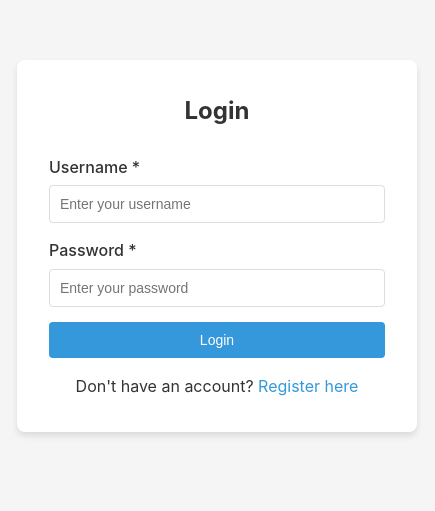
Scenario: Login Component › displays validation errors for empty fields
This screenshot has width=435, height=511.
Click the button "Login": (217, 340) [49, 322, 385, 358]
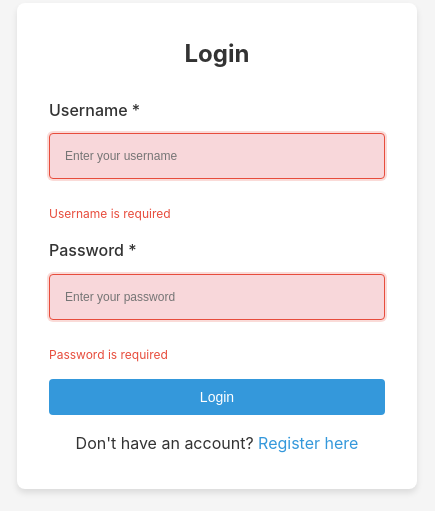
Result: the text "Username is required" is shown at [49, 206, 171, 221]
Result: the text "Password is required" is shown at [49, 347, 168, 362]
